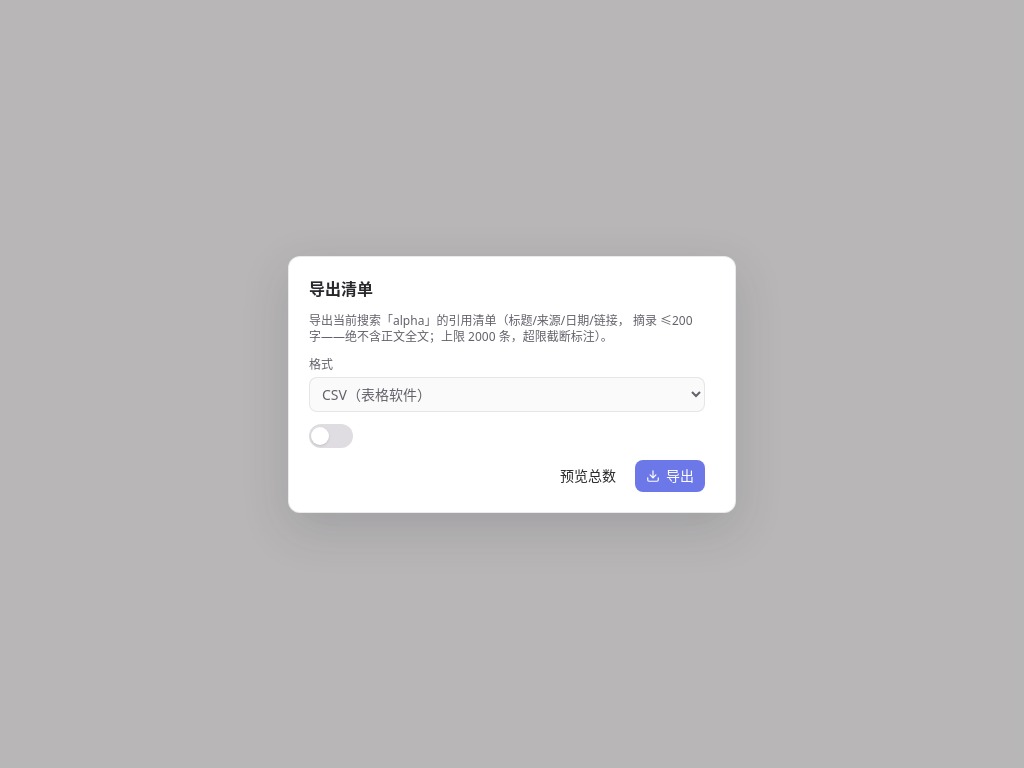
Scenario: F073 导出清单对话框 › F073: 预览总数（dryRun）→ 导出下载（截断标注）
The image size is (1024, 768).
# 范围预览：真实总数
What coordinates should you click on to do the following:
click the button "预览总数"
I would click on:
 (588, 476)
Its box is [549, 460, 627, 492].
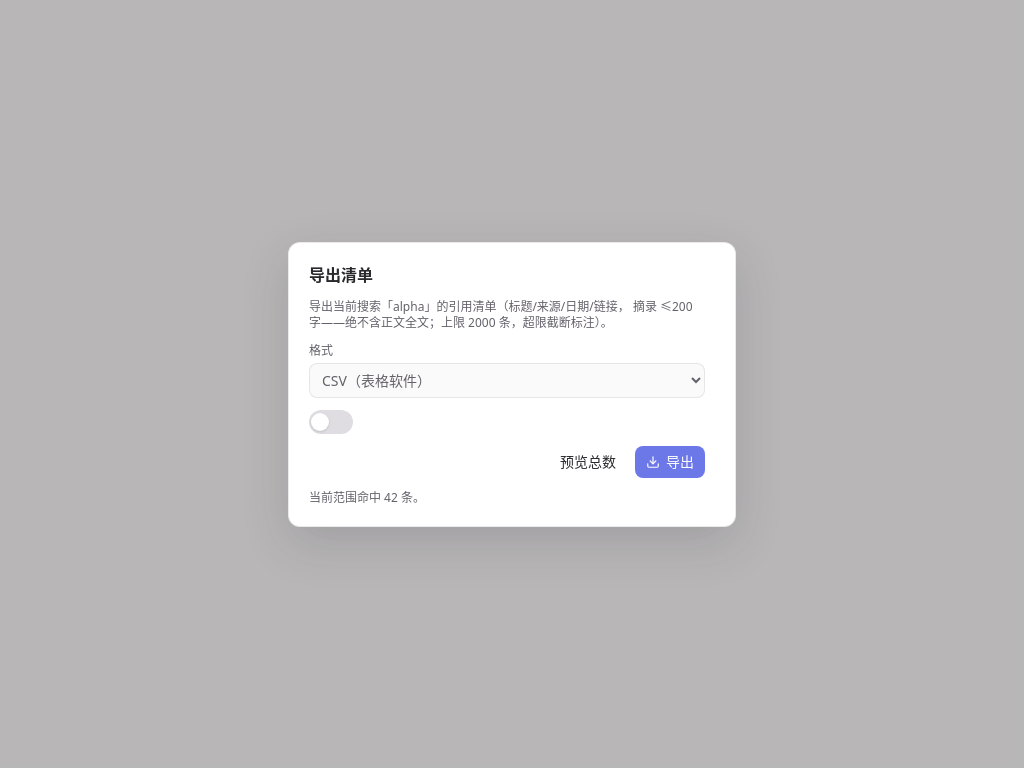
Check: the text "当前范围命中 42 条。" is shown, box [309, 488, 425, 506]
# 执行导出（含摘录列）
What coordinates should you click on to do the following:
click the switch named "包含摘录列（≤200 字）"
I would click on:
 (331, 422)
Its box is [309, 410, 353, 434].
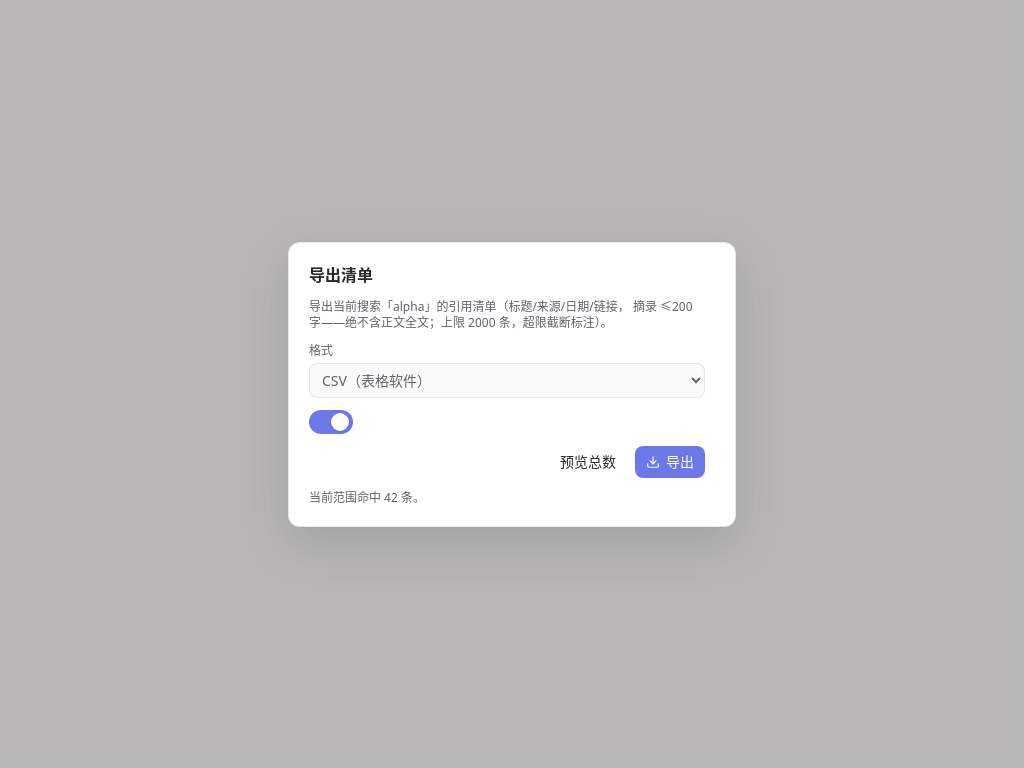
What coordinates should you click on to do the following:
click the button "导出"
I would click on:
 (670, 462)
Its box is [635, 446, 705, 478].
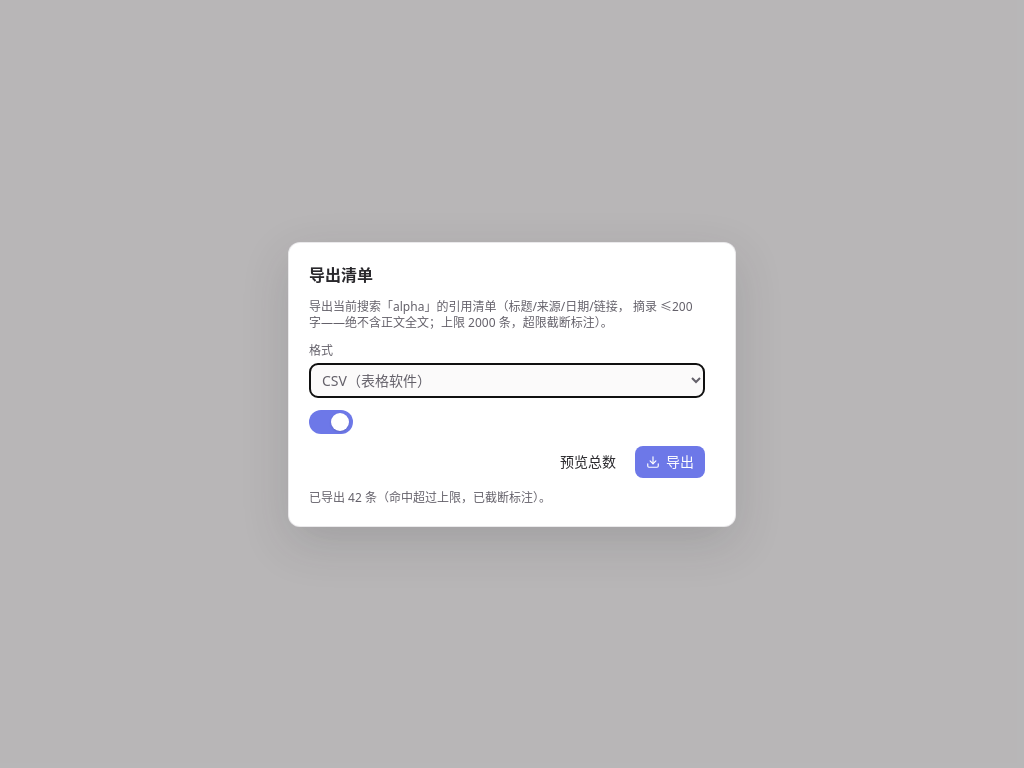
Check: the text "已导出 42 条（命中超过上限，已截断标注）。" is shown, box [309, 488, 551, 506]
